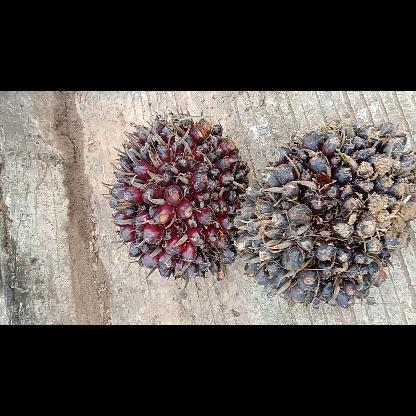TBS mentah: (231, 118, 415, 310), (105, 110, 251, 282)
